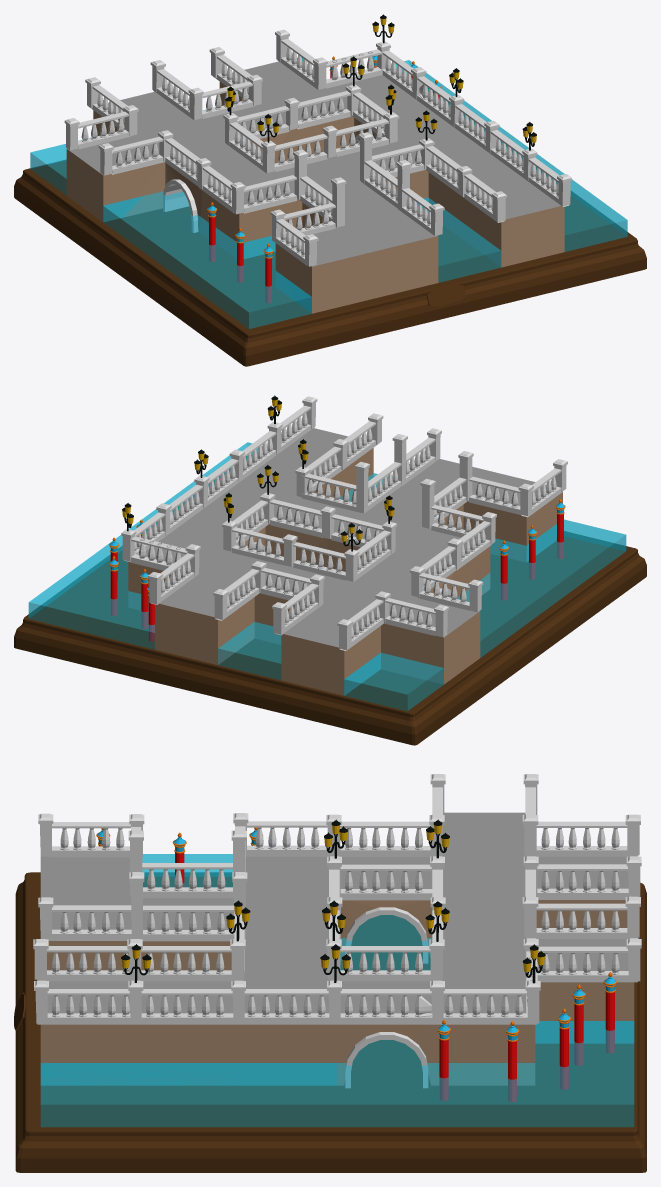
The model's file is lvl4.FBX.
3 renders of one model, top to bottom at view 1: azimuth 30°, elevation 25°; view 2: azimuth 150°, elevation 25°; view 3: azimuth 270°, elevation 25°, orthographic. The views are drawn at different scales.
Visible parts, largest first — view 1: Object108; view 2: Object108; view 3: Object108.
Part boxes in pixels (left/top/right/bottom): Object108: left=14, top=14, right=646, bottom=366; Object108: left=14, top=395, right=646, bottom=745; Object108: left=14, top=774, right=646, bottom=1172.
Bounding box in the file's own units: 349 × 110 × 350.
